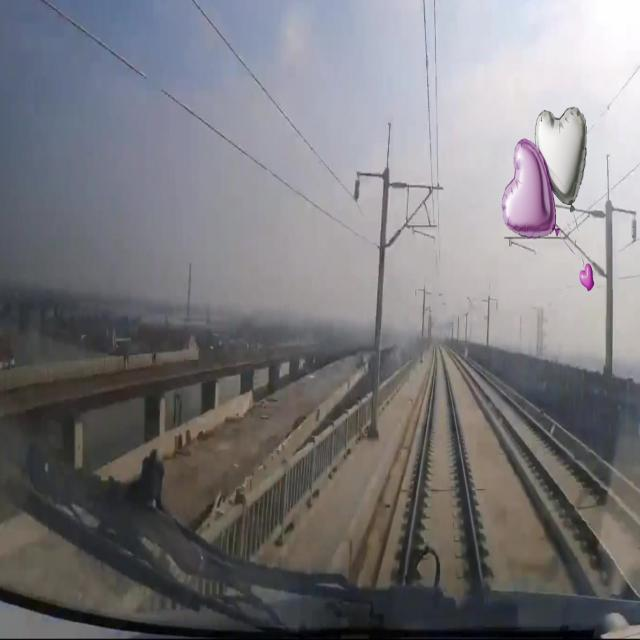balloon: (501, 137, 555, 236), (535, 108, 585, 200), (578, 261, 594, 290)
